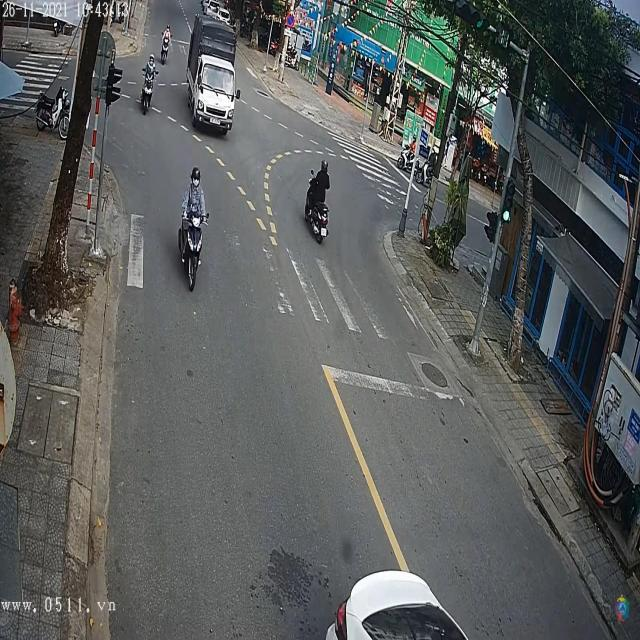motorcycle: (177, 200, 208, 294), (305, 200, 330, 244), (138, 84, 152, 113)
truck: (186, 16, 239, 134)
